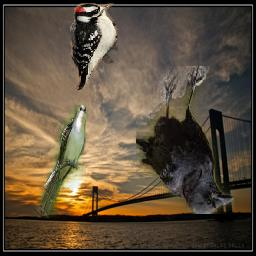Crow: (136, 66, 234, 214)
Cuckoo: (34, 106, 87, 219)
Woodpecker: (70, 4, 118, 91)
